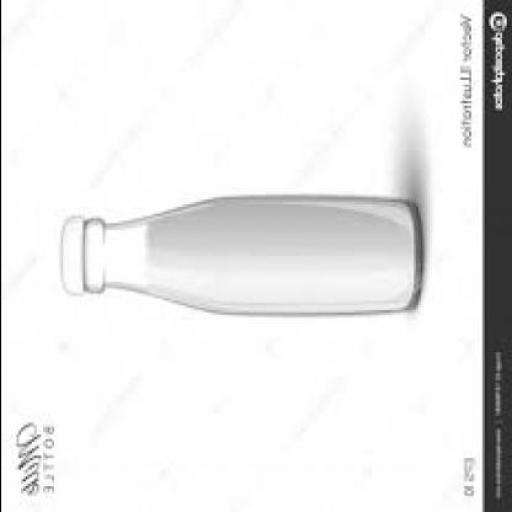glass: (77, 190, 419, 315), (53, 216, 80, 291)
